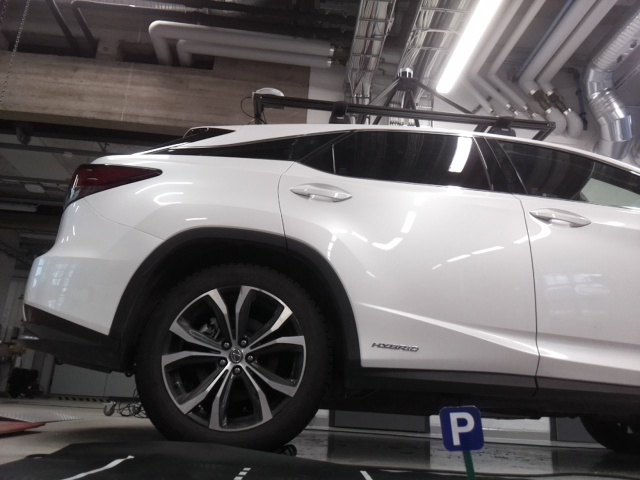Parking: (437, 406, 483, 449)
